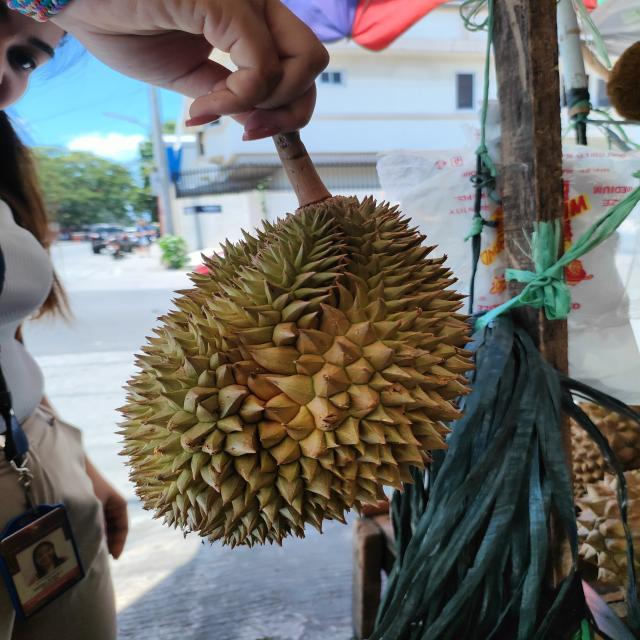mature: (115, 192, 477, 550)
